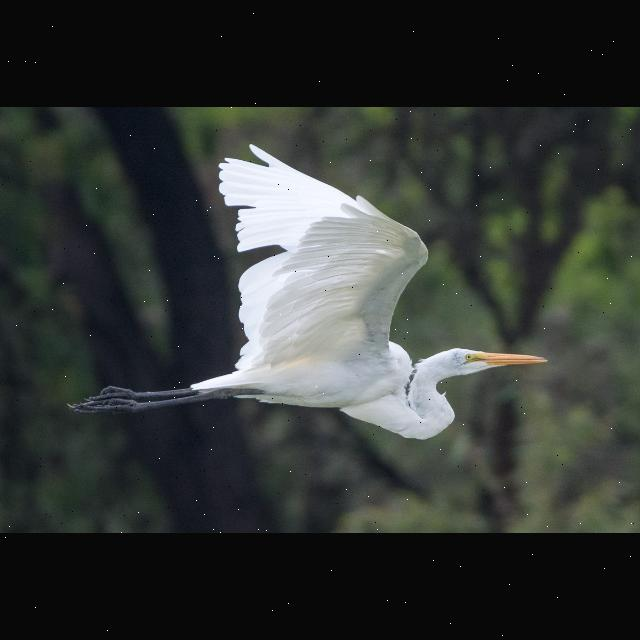egret: (60, 140, 556, 446)
